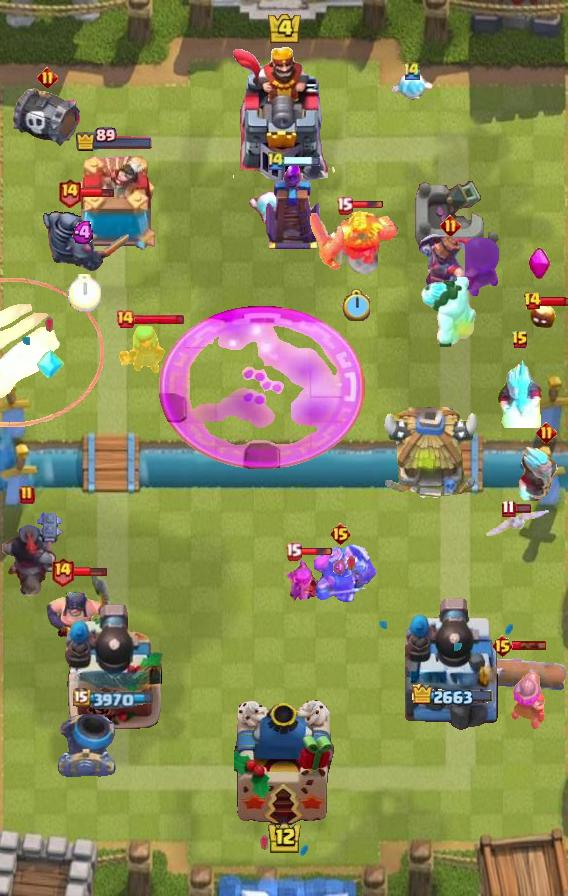barbarian: (483, 505, 549, 539)
bat: (248, 189, 294, 225), (391, 70, 433, 106)
bomb-tower: (508, 669, 546, 731), (465, 236, 501, 296)
bomber: (529, 301, 557, 329)
electro-spirit: (72, 221, 96, 244), (333, 560, 347, 577)
elixir: (67, 274, 100, 312), (342, 289, 370, 321)
elixir-golem-big: (299, 541, 381, 605), (416, 232, 484, 296)
emote: (134, 314, 185, 327), (79, 186, 115, 199), (283, 155, 320, 167), (72, 567, 108, 578), (513, 640, 548, 651), (350, 200, 384, 210), (299, 547, 333, 557), (540, 295, 568, 307), (512, 502, 532, 513)
evolution-symbol: (285, 556, 327, 604)
goblin-hut: (310, 208, 402, 274)
golemite: (39, 193, 129, 273)
ice-spirit-evolution-symbol: (263, 159, 323, 251)
ice-wizard: (0, 277, 104, 427)
inferno-dragon: (0, 510, 64, 599)
king-tower: (230, 45, 338, 181), (234, 700, 334, 826)
knight-evolution: (159, 307, 366, 470)
minion: (466, 650, 568, 694)
monk: (45, 570, 115, 646)
mortar: (495, 354, 545, 428), (516, 443, 568, 507)
musketeer: (56, 713, 116, 777)
pad_2: (36, 347, 64, 381)
prince: (379, 407, 481, 503)
queen-tower: (68, 156, 160, 256)
rage: (420, 277, 478, 347)
royal-recruit-evolution: (10, 86, 84, 150)
selected: (74, 127, 154, 153), (413, 684, 496, 709), (72, 687, 155, 709)
skeleton-king-skill: (528, 247, 552, 281)
text: (57, 177, 82, 208), (50, 557, 75, 588), (329, 522, 352, 546), (491, 634, 514, 658), (37, 68, 59, 89), (439, 215, 460, 237), (536, 421, 557, 443), (402, 59, 422, 81), (266, 149, 286, 170), (115, 309, 135, 329), (523, 291, 542, 311), (511, 330, 529, 350), (335, 197, 353, 216), (286, 542, 303, 561), (19, 485, 35, 505), (501, 498, 515, 517)
tower-bar: (405, 595, 501, 731), (64, 601, 164, 731)
witch: (118, 324, 166, 374)
